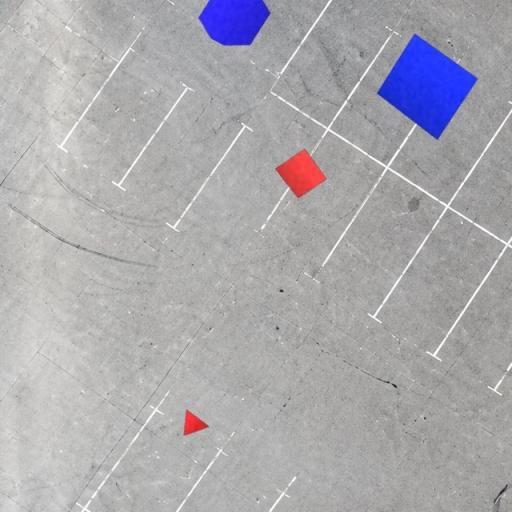BLUE_SQUARE: (376, 33, 479, 140)
RED_SQUARE: (274, 148, 328, 199)
